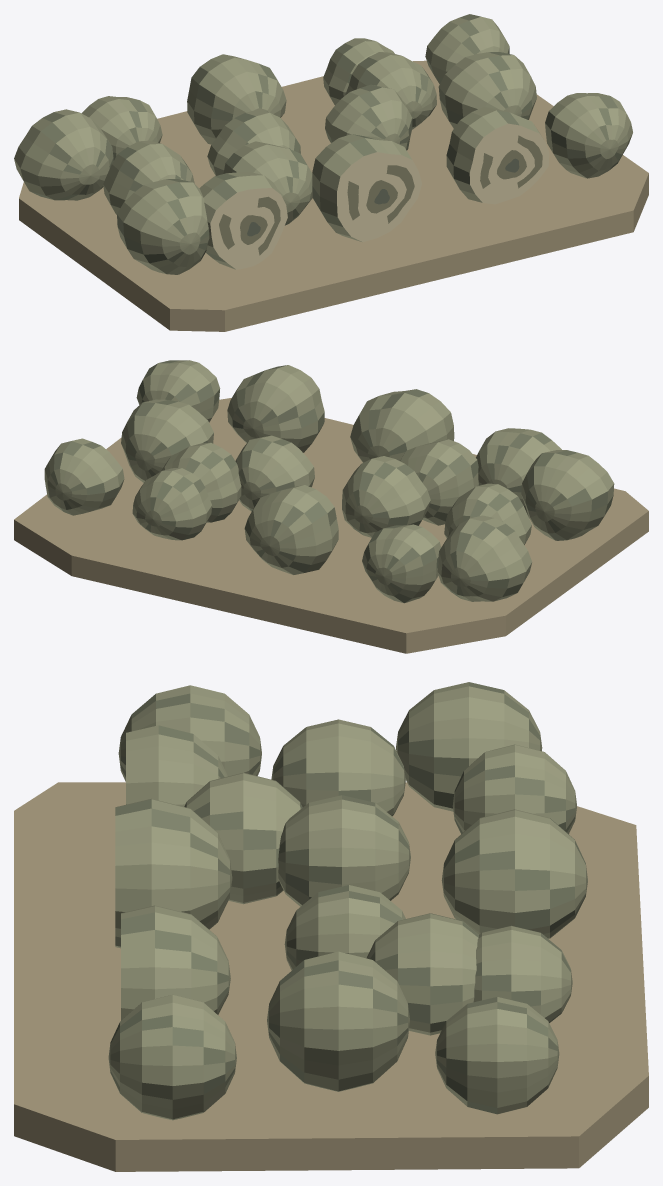
The picture shows the model from 3 angles, top to bottom: view 1: azimuth 30°, elevation 25°; view 2: azimuth 150°, elevation 25°; view 3: azimuth 270°, elevation 25°; orthographic projection. The views are drawn at different scales.
Visible parts, largest first — view 1: sixteen-separated-oncoids-and-quiet-contact-bed; view 2: sixteen-separated-oncoids-and-quiet-contact-bed; view 3: sixteen-separated-oncoids-and-quiet-contact-bed.
Boxes of the visible parts, x1=… form: sixteen-separated-oncoids-and-quiet-contact-bed: x1=14, y1=14, x2=648, y2=331; sixteen-separated-oncoids-and-quiet-contact-bed: x1=14, y1=360, x2=648, y2=653; sixteen-separated-oncoids-and-quiet-contact-bed: x1=14, y1=682, x2=648, y2=1171.
Size of the model in its own units: 0.2448 by 0.0526 by 0.18.
